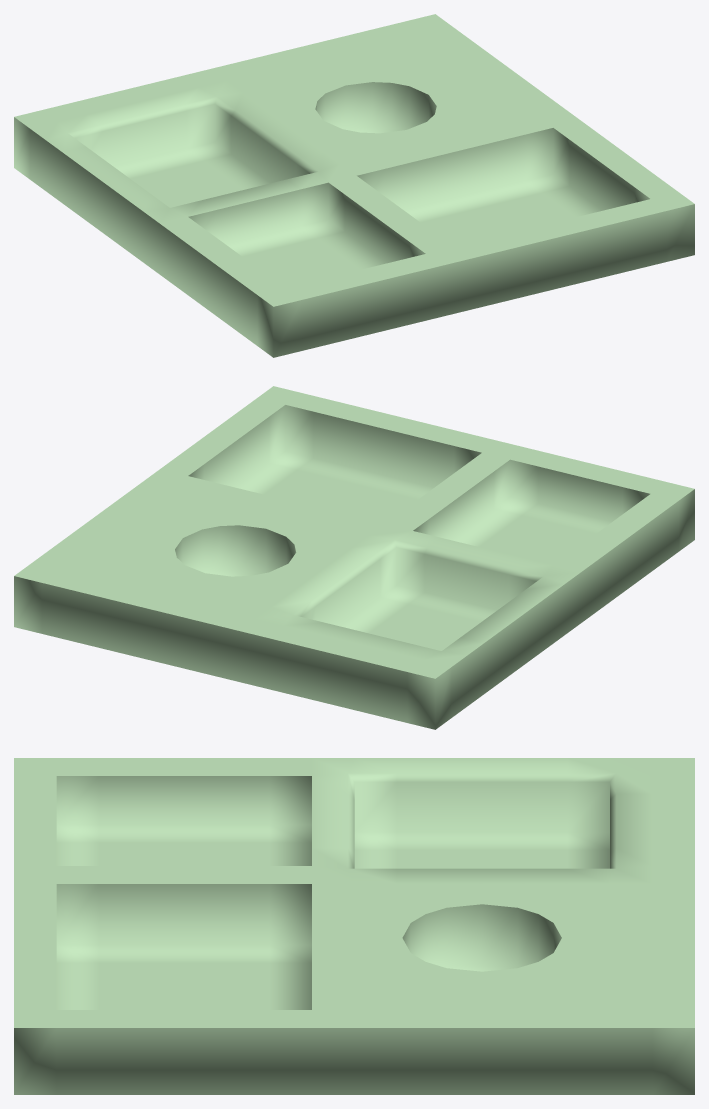
The model's file is foodRack.fbx.
3 renders of one model, top to bottom at view 1: azimuth 30°, elevation 25°; view 2: azimuth 150°, elevation 25°; view 3: azimuth 270°, elevation 25°, orthographic. The views are drawn at different scales.
Parts seen in each view (by area): view 1: foodrack; view 2: foodrack; view 3: foodrack.
Part boxes in pixels (x1,y1,x2,y2): foodrack: (14,14,694,357); foodrack: (14,386,694,729); foodrack: (14,758,694,1094).
Size of the model in its own units: 188 by 21.7 by 200.
